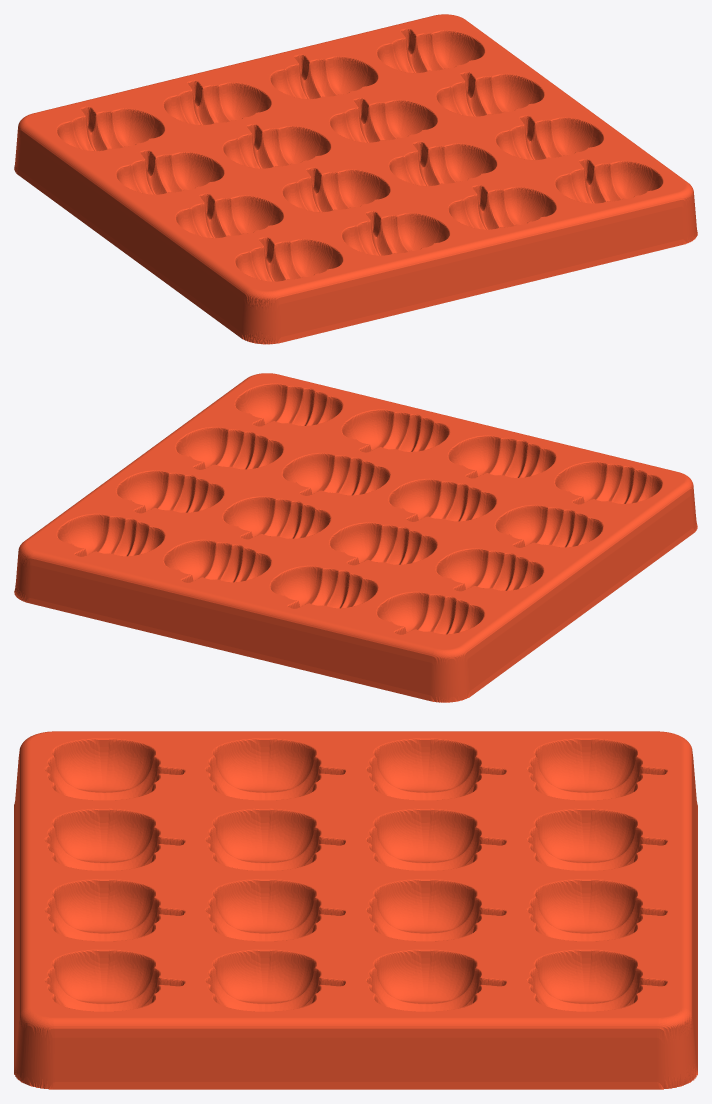
File: mold.glb
3 renders of one model, top to bottom at view 1: azimuth 30°, elevation 25°; view 2: azimuth 150°, elevation 25°; view 3: azimuth 270°, elevation 25°, orthographic. The views are drawn at different scales.
Visible parts, largest first — view 1: geometry_0; view 2: geometry_0; view 3: geometry_0.
Part boxes in pixels (x1,y1,x2,y2): geometry_0: [14, 14, 697, 344]; geometry_0: [14, 373, 697, 702]; geometry_0: [14, 731, 697, 1089].
Bounding box in the file's own units: 0.1569 × 0.0159 × 0.1517.
